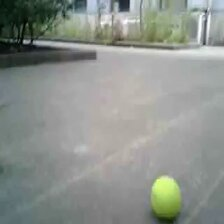tennis: (150, 176, 182, 218)
